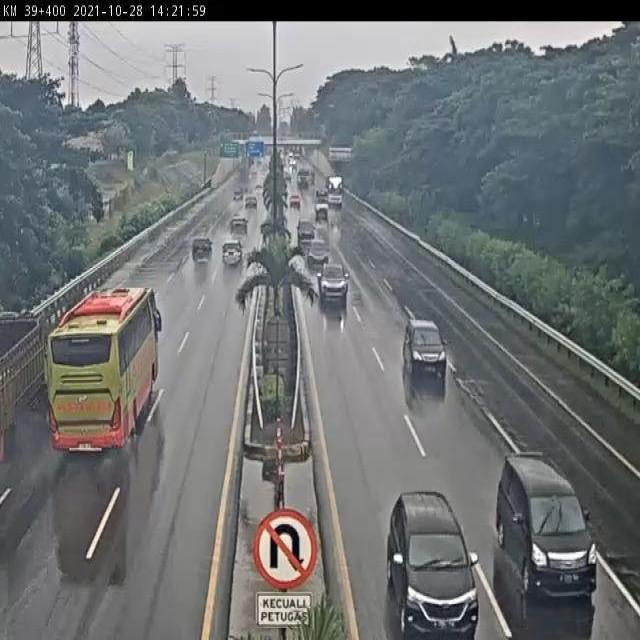big bus: (45, 285, 161, 451)
car: (495, 450, 600, 594), (387, 490, 476, 640), (401, 318, 449, 378), (315, 262, 348, 302), (184, 241, 209, 275), (217, 244, 242, 276), (305, 231, 328, 264), (226, 219, 247, 244), (295, 212, 314, 239)
truck-l-: (0, 315, 48, 440)
